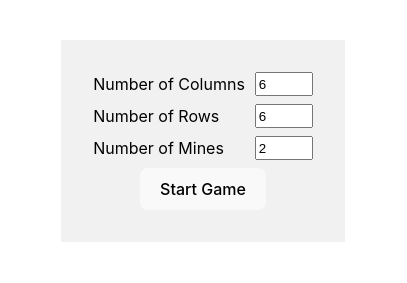
it: GameSettings Component test suite › shows error for number of rows less than or equal to 0
Replace the text in the number field with placeholder "Number of Rows" next to "Number of Rows" with "0": (284, 116) [255,104,313,128]
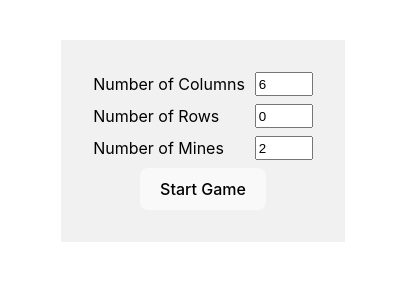
Click the button "Start Game": (203, 189) [140,168,266,210]
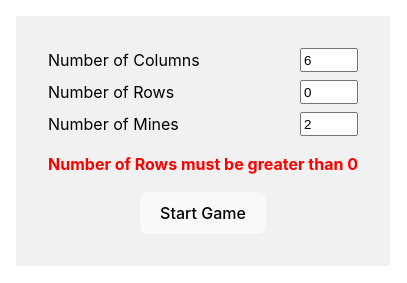
expect the text "Number of Rows must be greater than 0" is shown: met, box [48,152,358,176]
